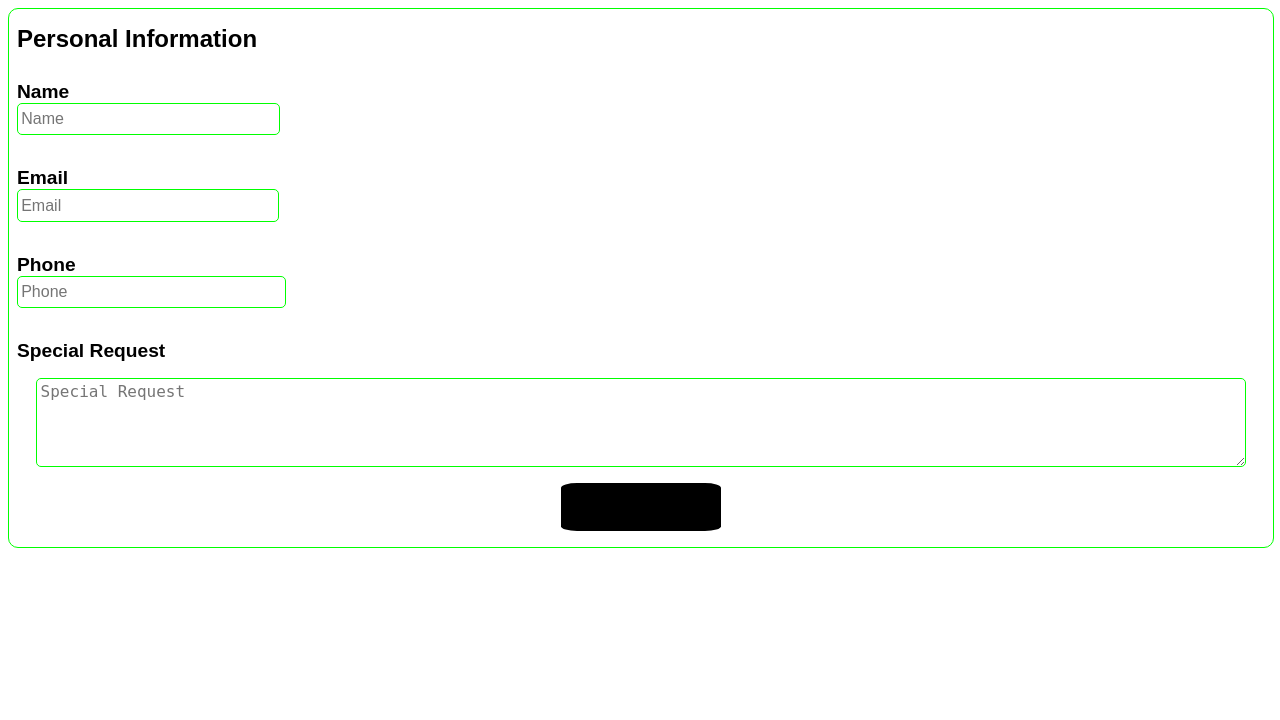
Test: ContactDetails component › shows validation errors for invalid inputs
Step 1. Type "Ok" into the field with placeholder "Name" → (148, 119), box left=17, top=103, right=280, bottom=135
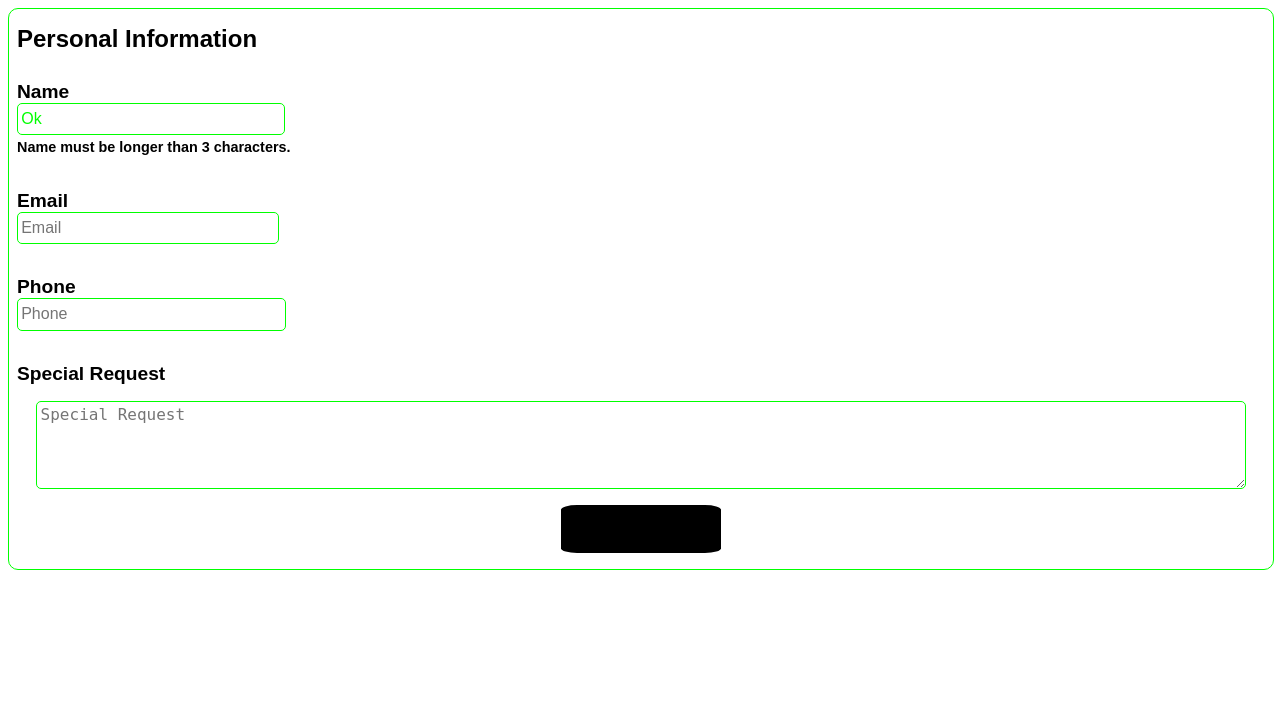
Step 2. Type "john" into the field with placeholder "Email" → (148, 228), box left=17, top=212, right=279, bottom=244
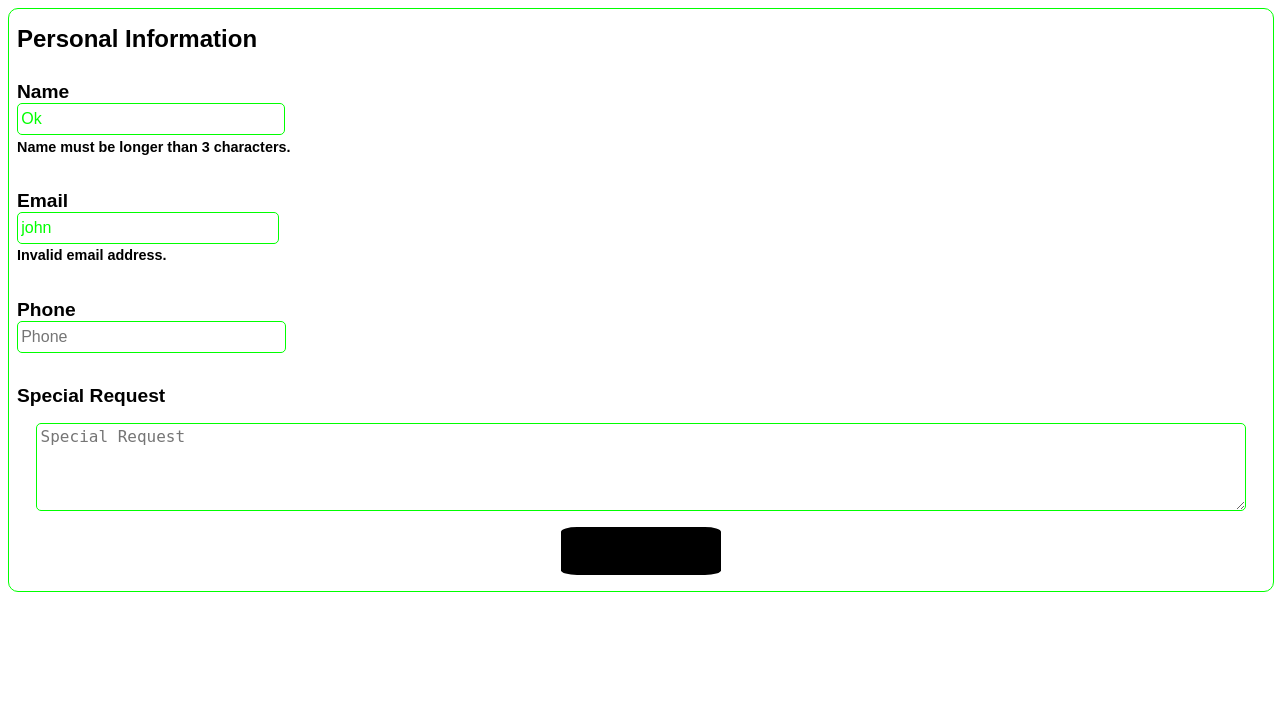
Step 3. Type "123" into the field with placeholder "Phone" → (151, 337), box left=17, top=320, right=286, bottom=353
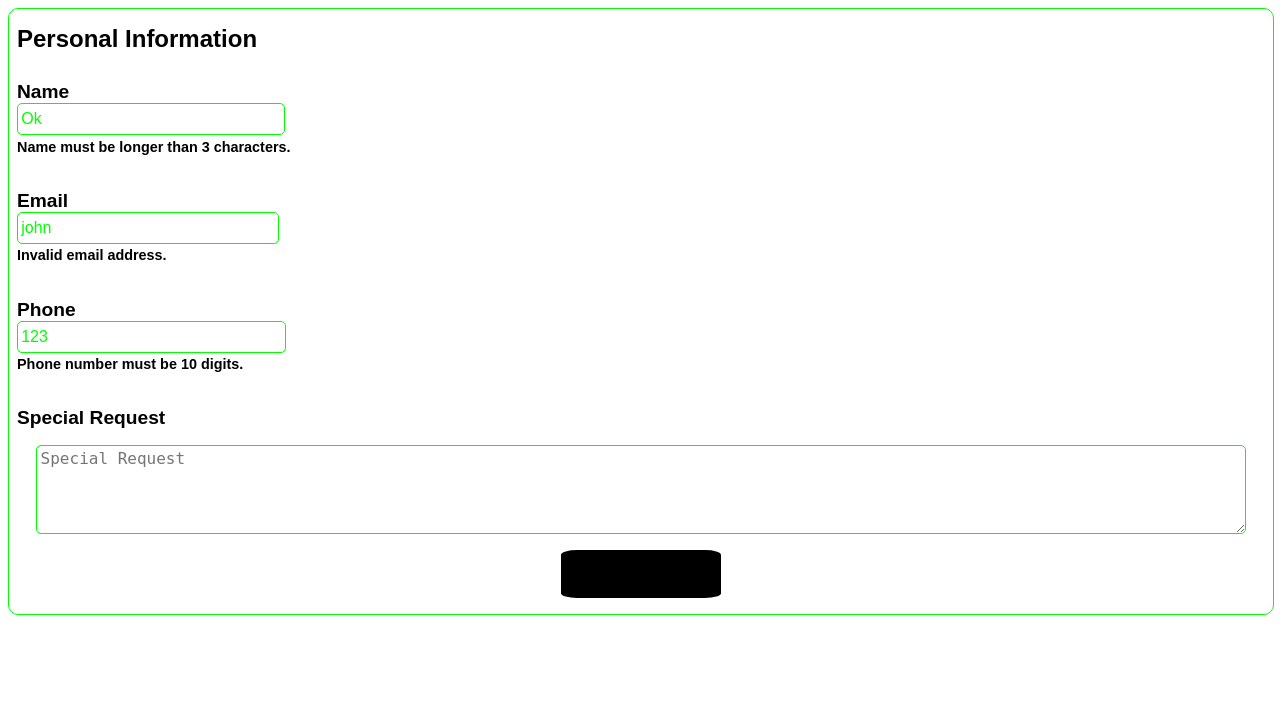
Expected: the text "Name must be longer than 3 characters." is shown, left=17, top=139, right=290, bottom=155
Expected: the text "Invalid email address." is shown, left=17, top=247, right=167, bottom=263
Expected: the text "Phone number must be 10 digits." is shown, left=17, top=356, right=243, bottom=372
